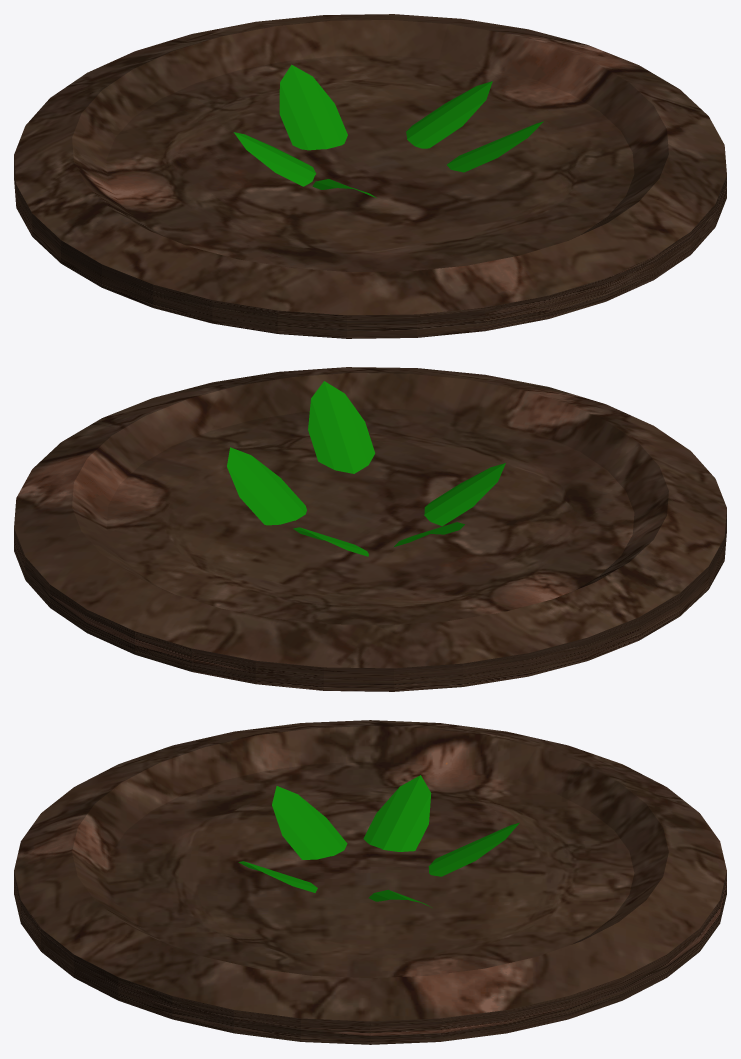
Rendered from stage1.fbx.
3 renders of one model, top to bottom at view 1: azimuth 30°, elevation 25°; view 2: azimuth 150°, elevation 25°; view 3: azimuth 270°, elevation 25°, orthographic.
Visible parts, largest first — view 1: Cylinder.001; view 2: Cylinder.001; view 3: Cylinder.001.
Boxes of the visible parts, <box> form: Cylinder.001: <box>14,14,726,338</box>; Cylinder.001: <box>14,367,726,691</box>; Cylinder.001: <box>14,720,726,1044</box>.
Bounding box in the file's own units: 20 × 2.68 × 20.
